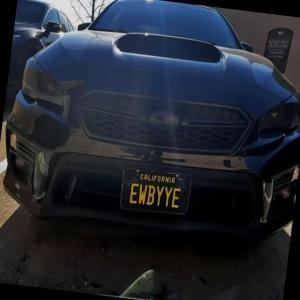Plate: (119, 164, 192, 216)
